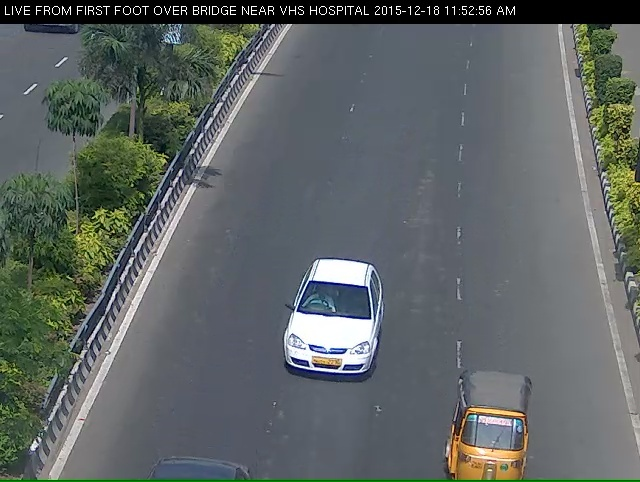Auto: (439, 390, 540, 480)
Car: (276, 275, 384, 427)
